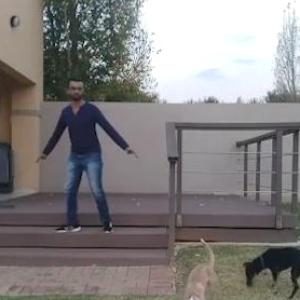land: (46, 78, 121, 244)
